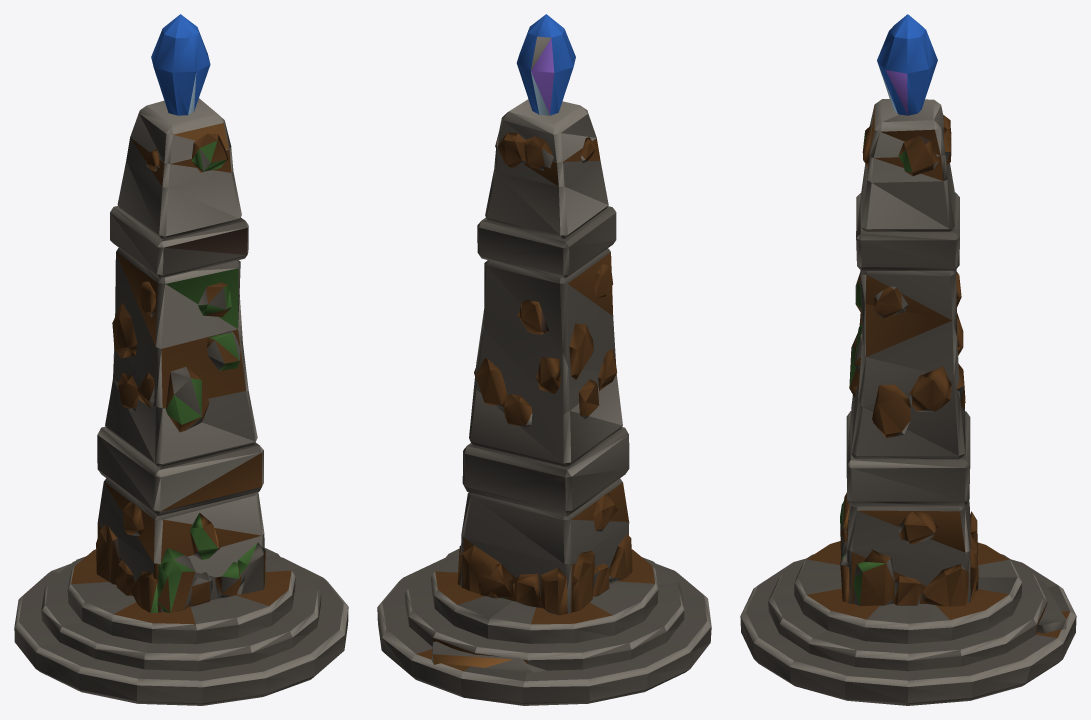
File: building.ward_stone.glb
3 views of the same model, side by side, from view 1: azimuth 30°, elevation 25°; view 2: azimuth 150°, elevation 25°; view 3: azimuth 270°, elevation 25° (orthographic).
Visible parts, largest first — view 1: asset; view 2: asset; view 3: asset.
Part boxes in pixels (x1=…): asset: x1=14, y1=14, x2=348, y2=705; asset: x1=377, y1=14, x2=711, y2=705; asset: x1=740, y1=14, x2=1076, y2=705.
Size of the model in its own units: 1.47 by 3 by 1.47.
